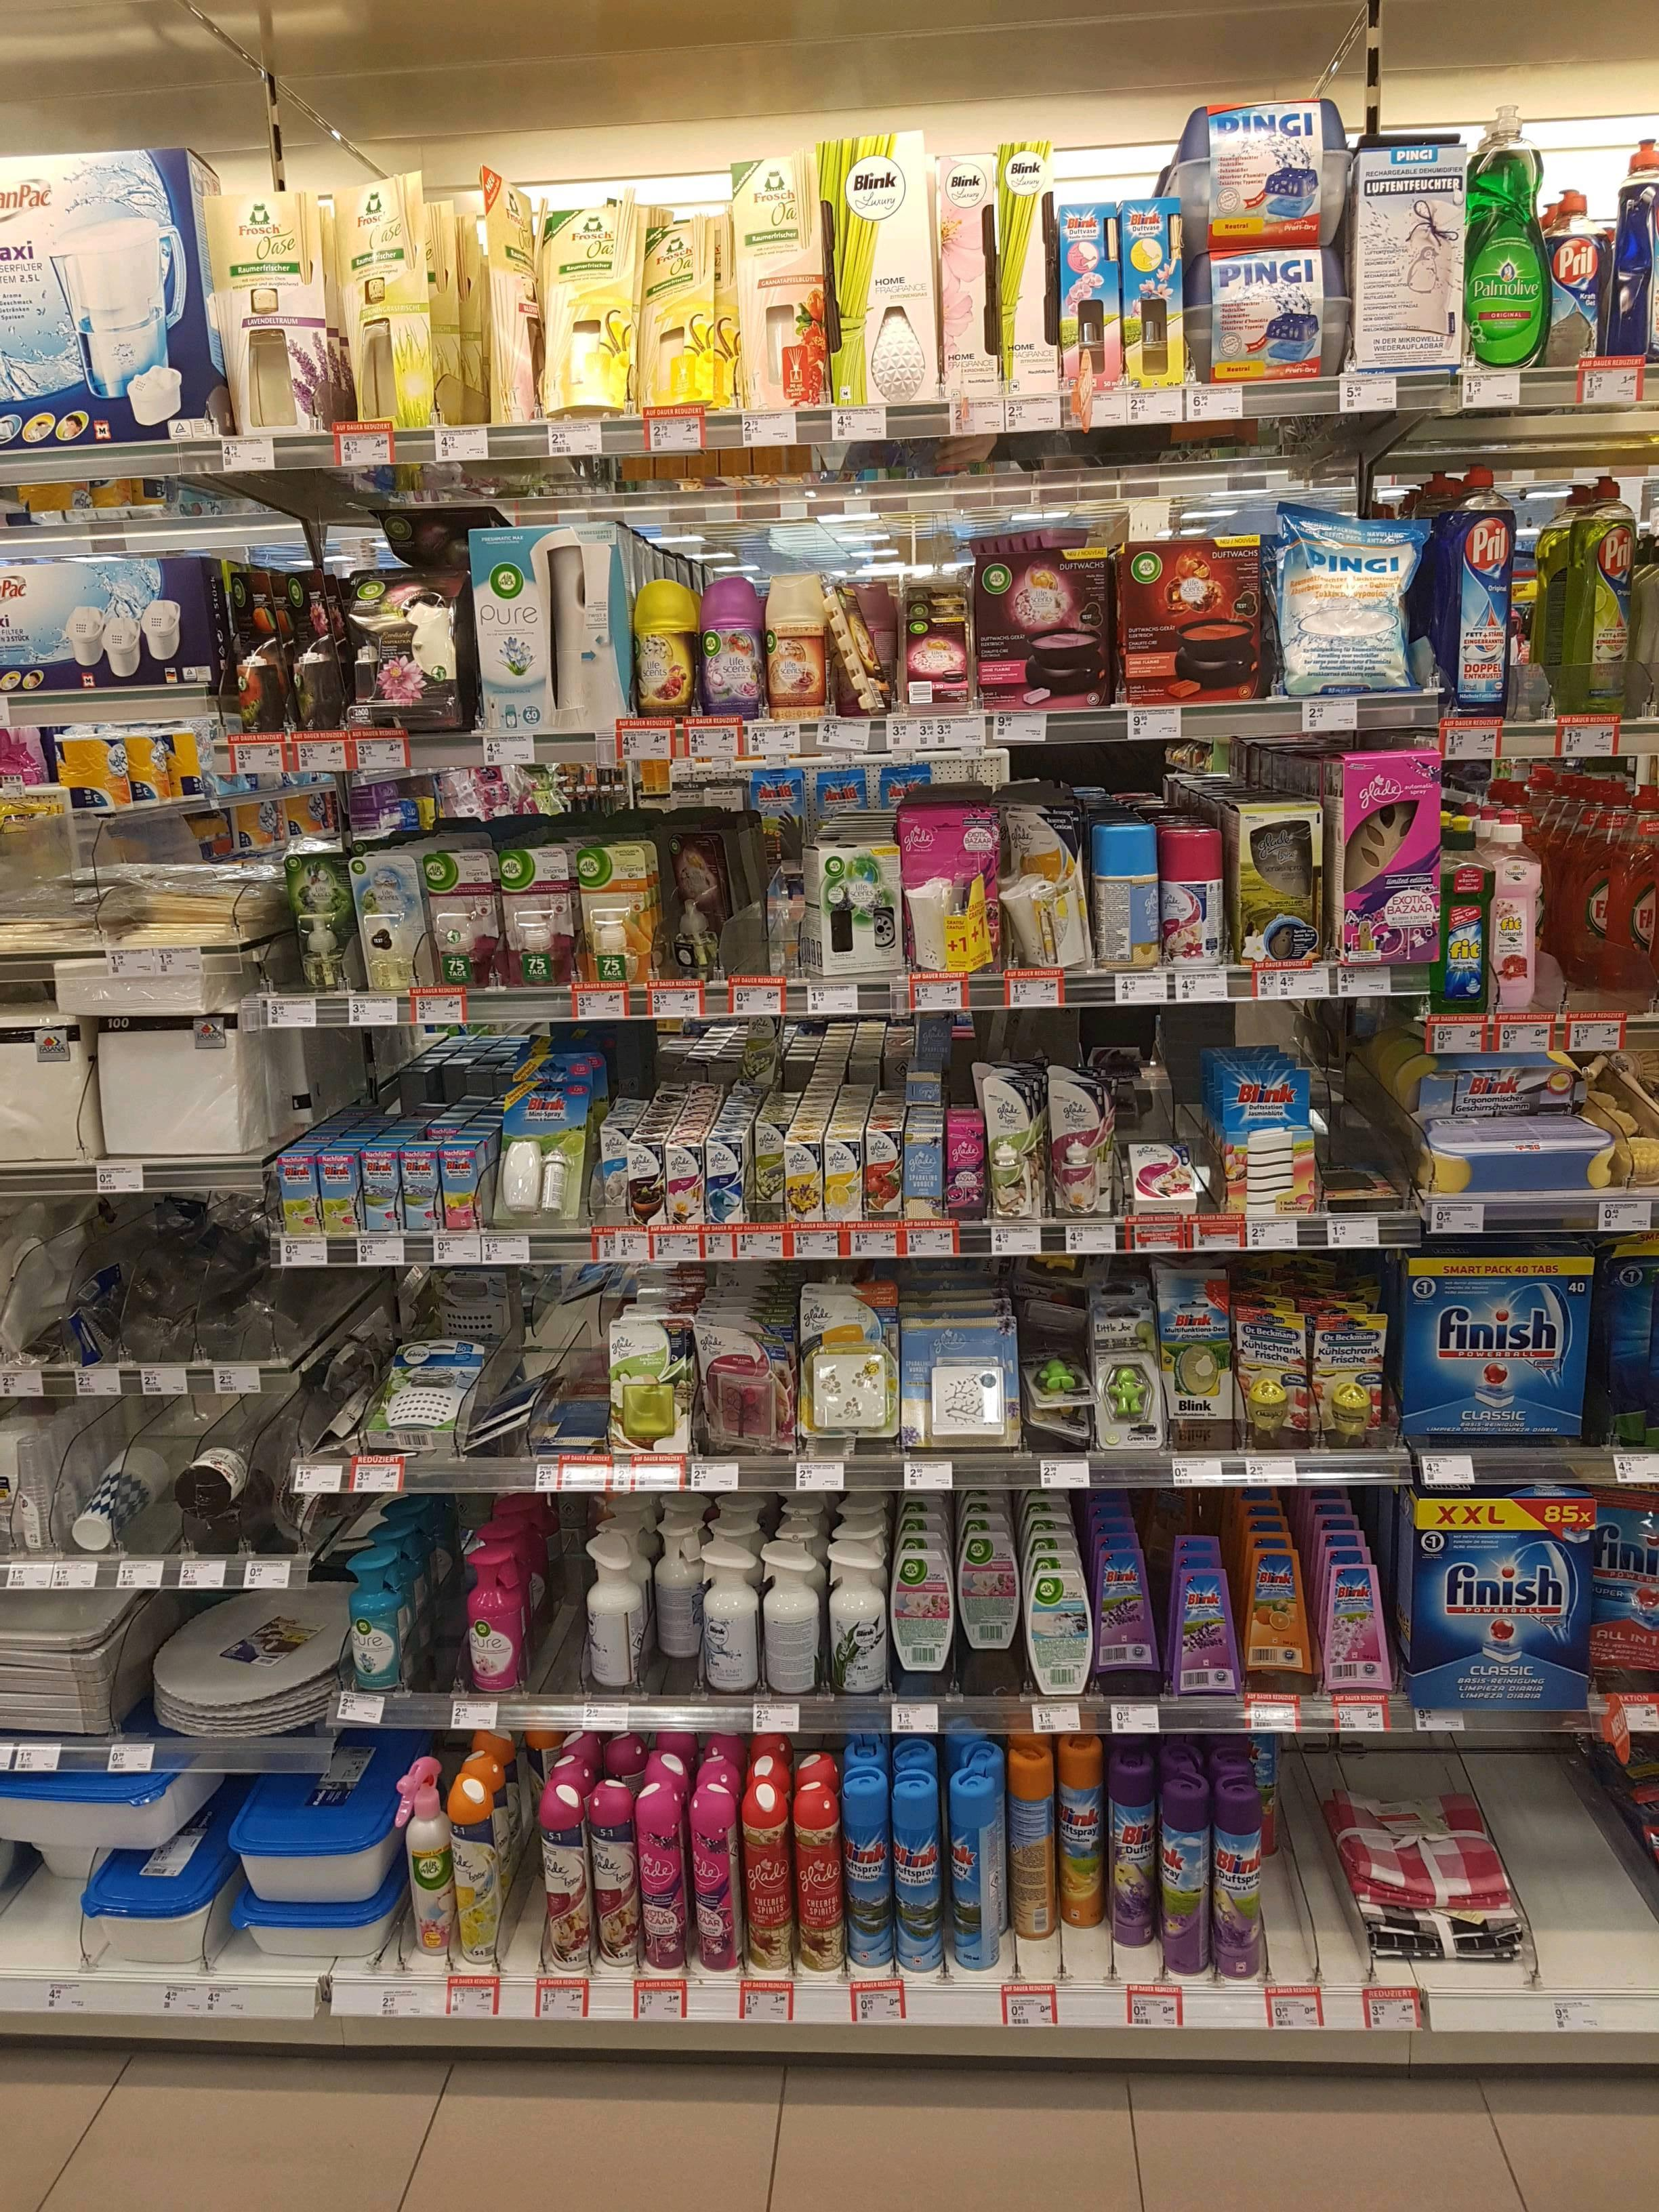misalignment: (1420, 1113, 1608, 1193), (1004, 815, 1086, 977), (281, 568, 342, 726), (587, 1536, 640, 1689), (823, 592, 885, 716), (667, 829, 723, 965), (472, 1357, 528, 1456), (1028, 1360, 1086, 1454), (1136, 1134, 1194, 1219), (322, 1348, 361, 1454), (1323, 1165, 1399, 1217)
